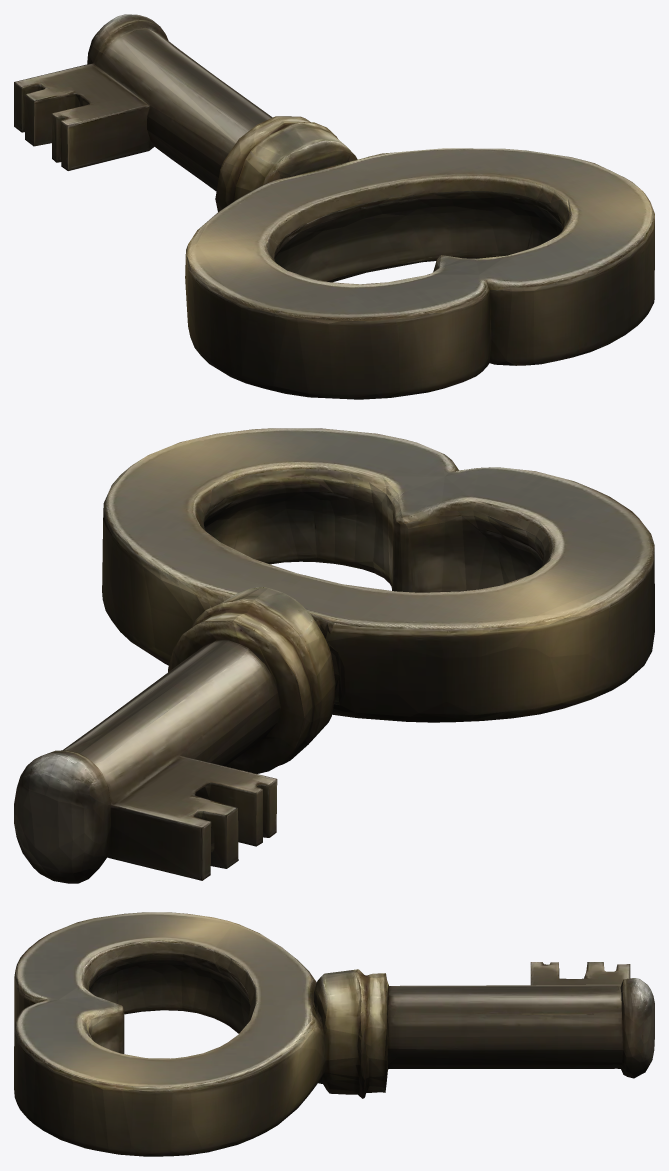
File: frying-pan.glb
3 renders of one model, top to bottom at view 1: azimuth 30°, elevation 25°; view 2: azimuth 150°, elevation 25°; view 3: azimuth 270°, elevation 25°, orthographic. The views are drawn at different scales.
Visible parts, largest first — view 1: world; view 2: world; view 3: world.
Boxes of the visible parts, bbox=[...] form: world: bbox=[14, 14, 654, 399]; world: bbox=[14, 428, 654, 883]; world: bbox=[14, 912, 654, 1156].
Bounding box in the file's own units: 0.6504 × 0.2044 × 0.9944.
1 material, 1 textured.
